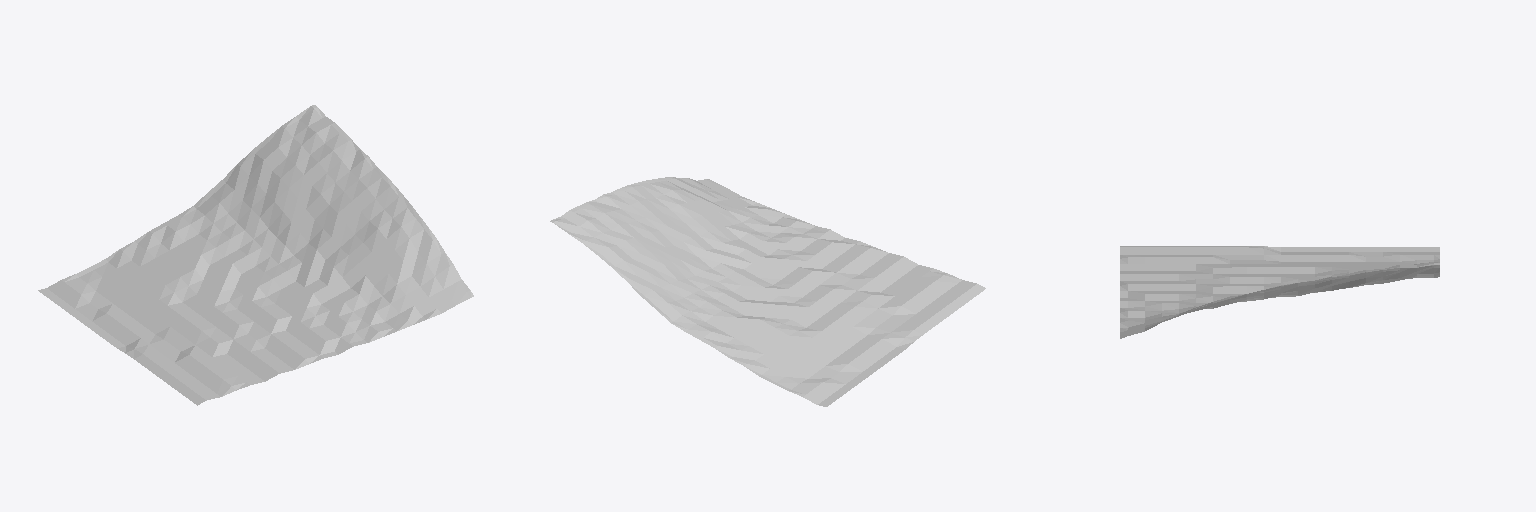
File: terrain_-13_4.obj
The picture shows the model from 3 angles: view 1: azimuth 30°, elevation 25°; view 2: azimuth 150°, elevation 25°; view 3: azimuth 270°, elevation 25°; orthographic projection.
Parts seen in each view (by area): view 1: terrain_-13_4_Plane.063; view 2: terrain_-13_4_Plane.063; view 3: terrain_-13_4_Plane.063.
Part boxes in pixels (x1,y1,x2,y2): terrain_-13_4_Plane.063: (38,105,473,405); terrain_-13_4_Plane.063: (550,177,985,406); terrain_-13_4_Plane.063: (1120,246,1439,338).
Bounding box in the file's own units: 32 × 13.03 × 32.